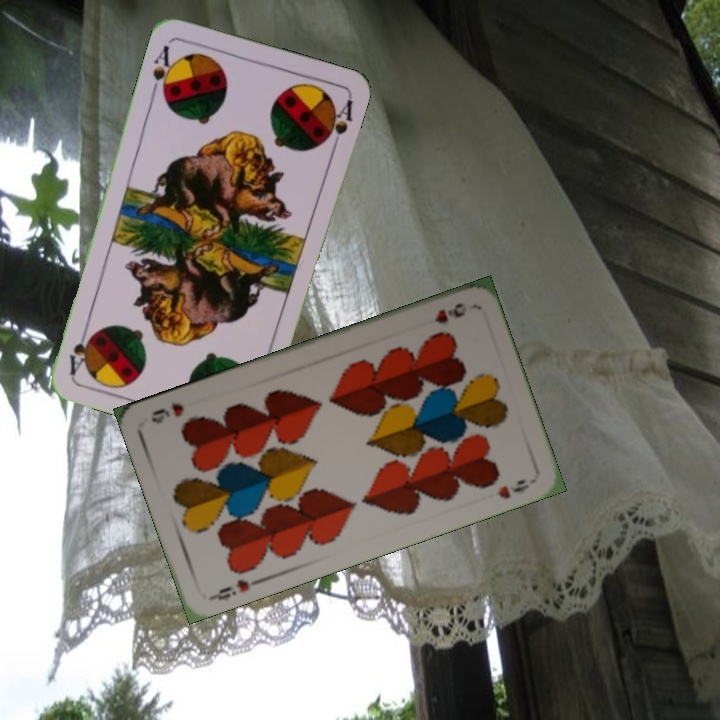H9: (206, 575, 264, 603), (430, 299, 470, 327)
SA: (147, 41, 178, 100)
